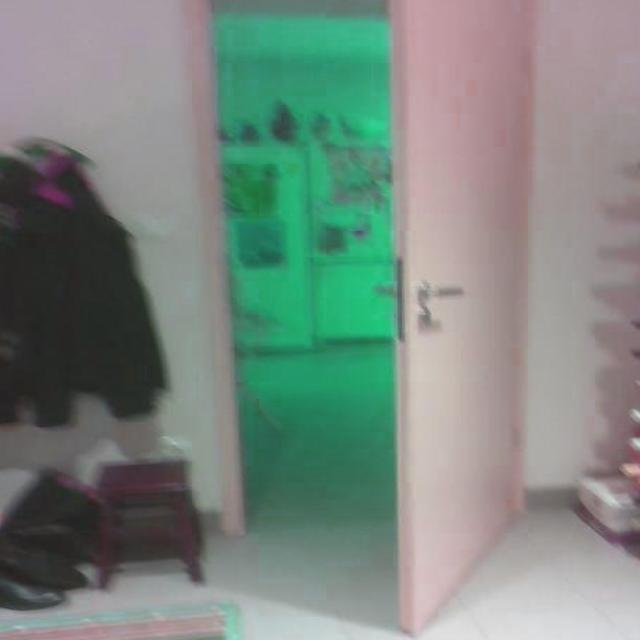door: (368, 0, 548, 640)
